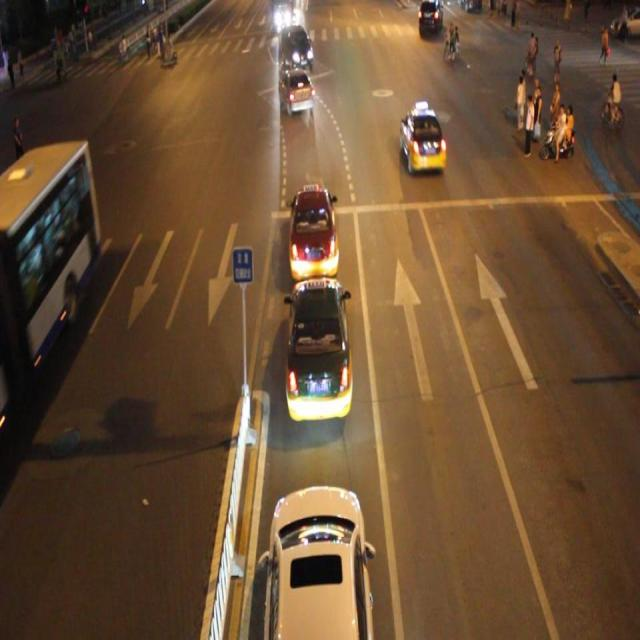car: (259, 479, 375, 640), (282, 274, 354, 422), (286, 184, 341, 278), (398, 108, 444, 172), (278, 67, 314, 113), (280, 23, 313, 68), (418, 2, 442, 34)
van: (1, 143, 99, 431)
